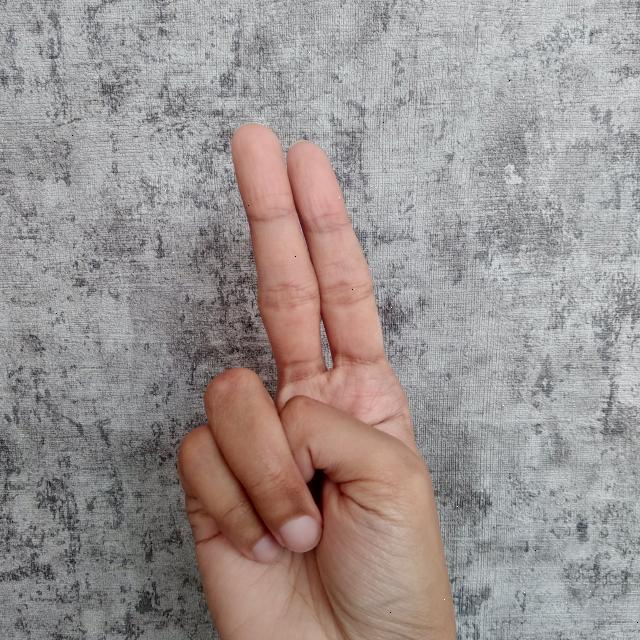U: (170, 117, 466, 640)
